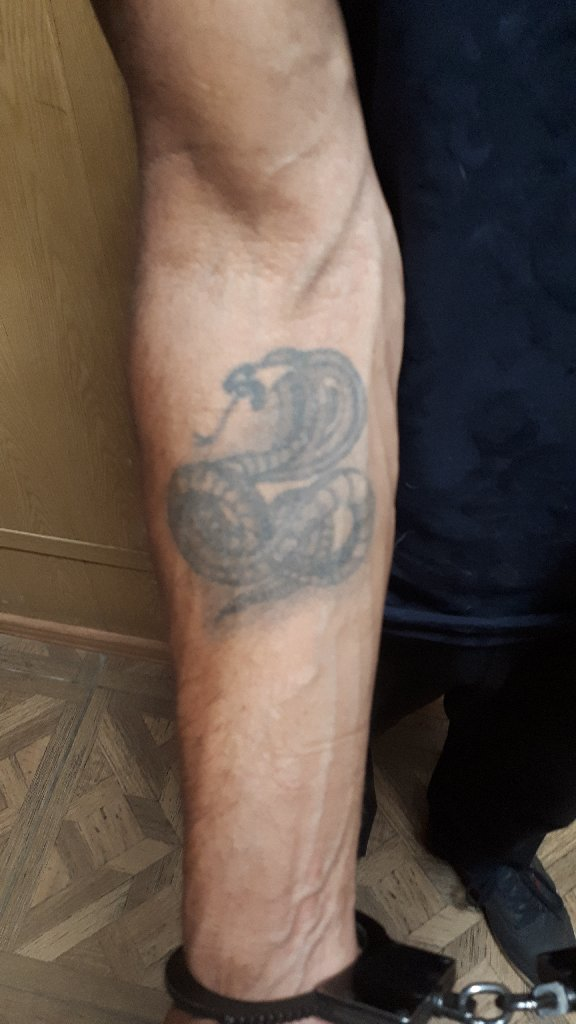tatu7_zmeya: (165, 296, 382, 619)
